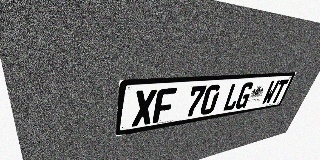0: (199, 84, 222, 115)
7: (183, 85, 207, 118)
F: (152, 88, 177, 123)
G: (234, 82, 255, 110)
L: (222, 83, 244, 112)
T: (270, 79, 289, 103)
W: (261, 80, 280, 105)
X: (131, 89, 157, 127)
